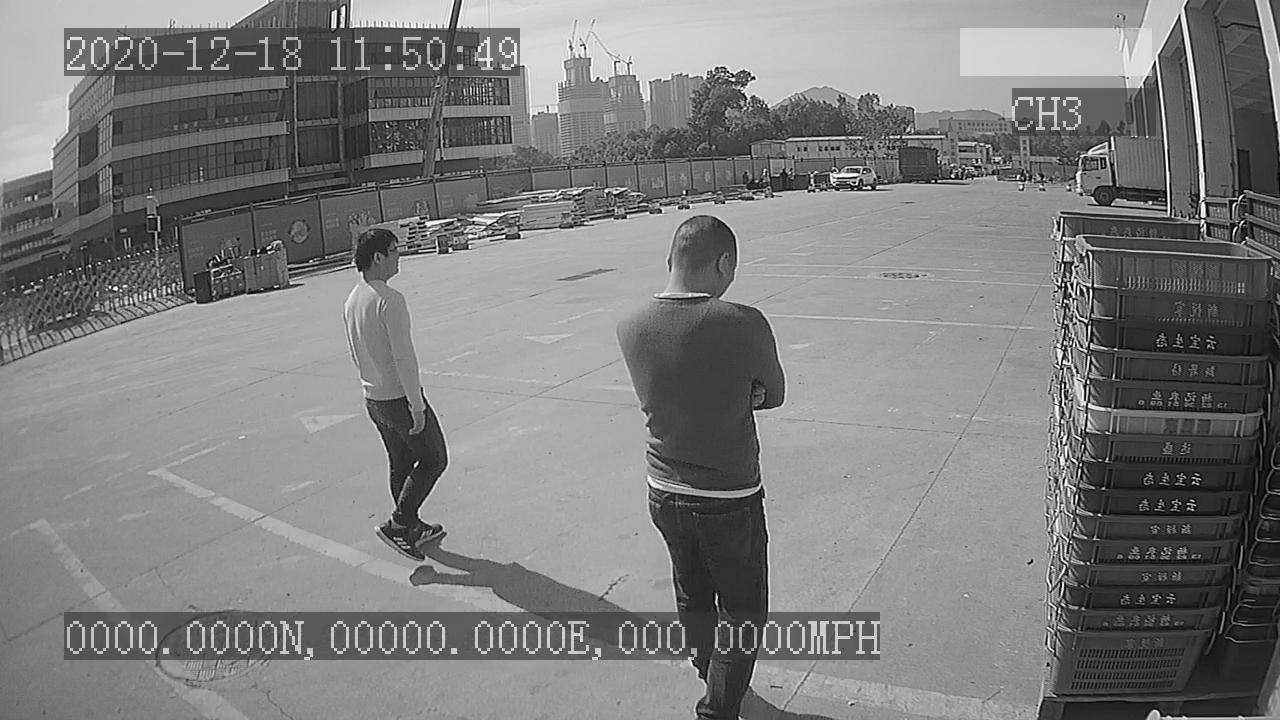person: (334, 227, 458, 570)
